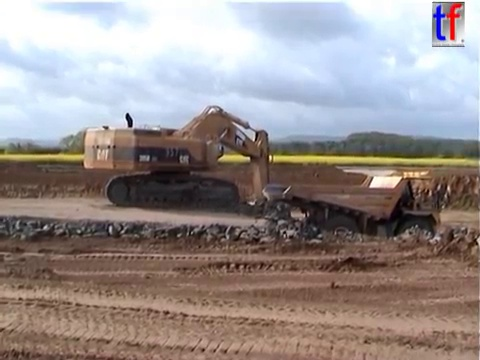excavator: (80, 102, 292, 229)
truck: (260, 166, 451, 259)
